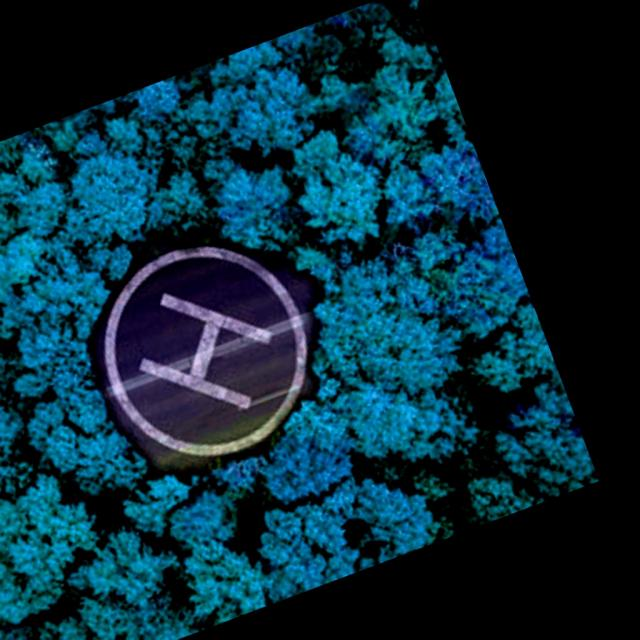helipad: (97, 236, 312, 460)
